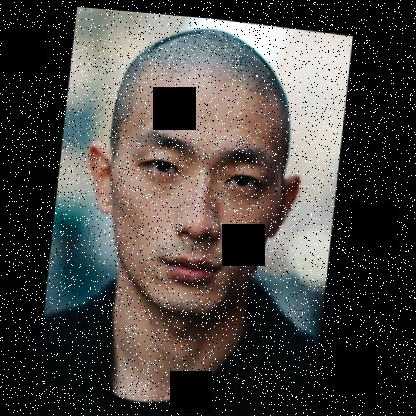Male: (79, 58, 313, 319)
